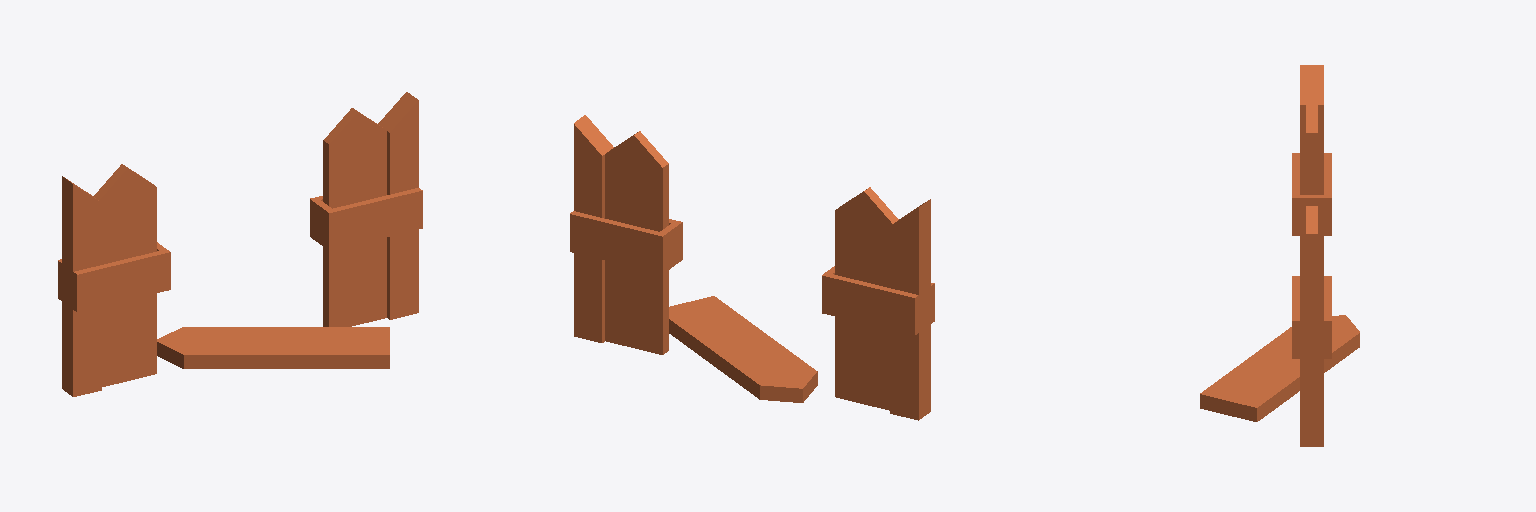
File: fenceDamaged.obj
3 renders of one model, left to right at view 1: azimuth 30°, elevation 25°; view 2: azimuth 150°, elevation 25°; view 3: azimuth 270°, elevation 25°, orthographic.
Visible parts, largest first — view 1: fenceDamaged, board; view 2: fenceDamaged, board; view 3: fenceDamaged, board.
Boxes of the visible parts, x1,y1,x2,y2 form: fenceDamaged: [62, 92, 418, 396]; board: [58, 188, 422, 312]; fenceDamaged: [574, 115, 930, 420]; board: [570, 211, 934, 335]; fenceDamaged: [1200, 65, 1359, 446]; board: [1292, 153, 1331, 358].
Size of the model in its own units: 1 by 0.59 by 0.4036.